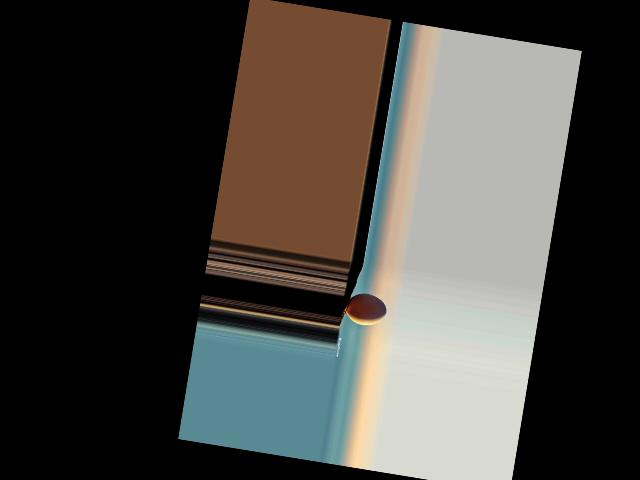egg: (344, 290, 388, 328)
